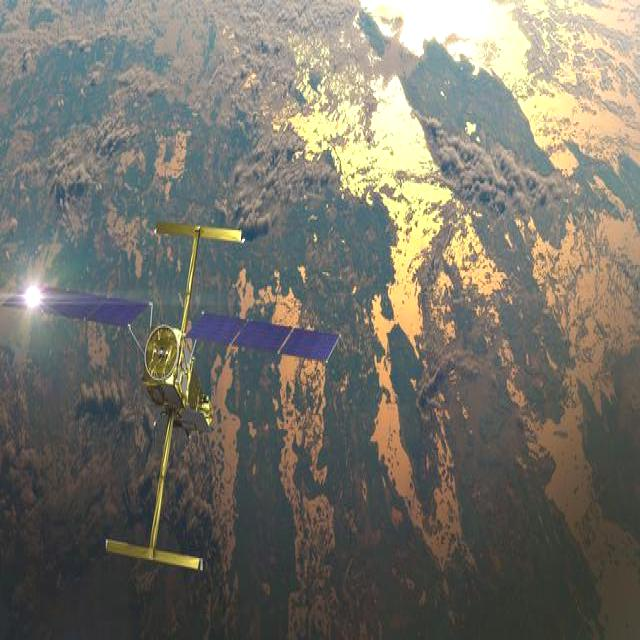satellite: (105, 222, 339, 571), (4, 288, 152, 335)
